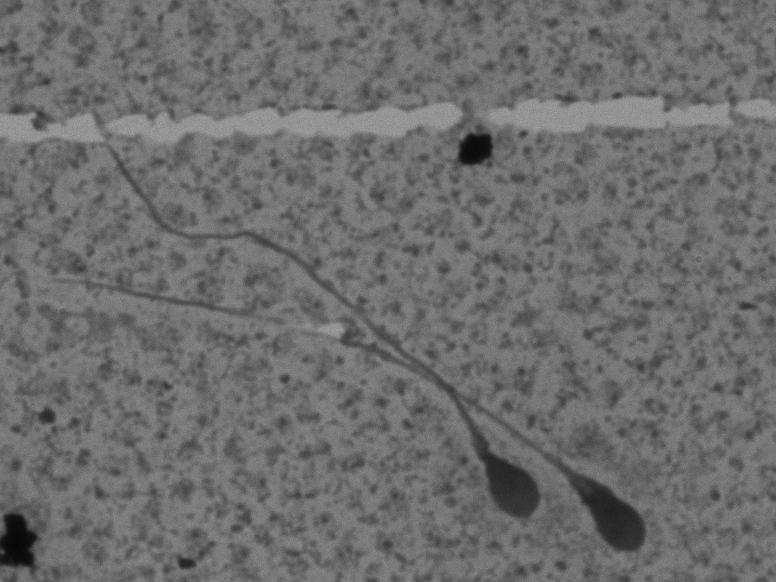Abnormal: (93, 139, 561, 543), (35, 269, 660, 561)
